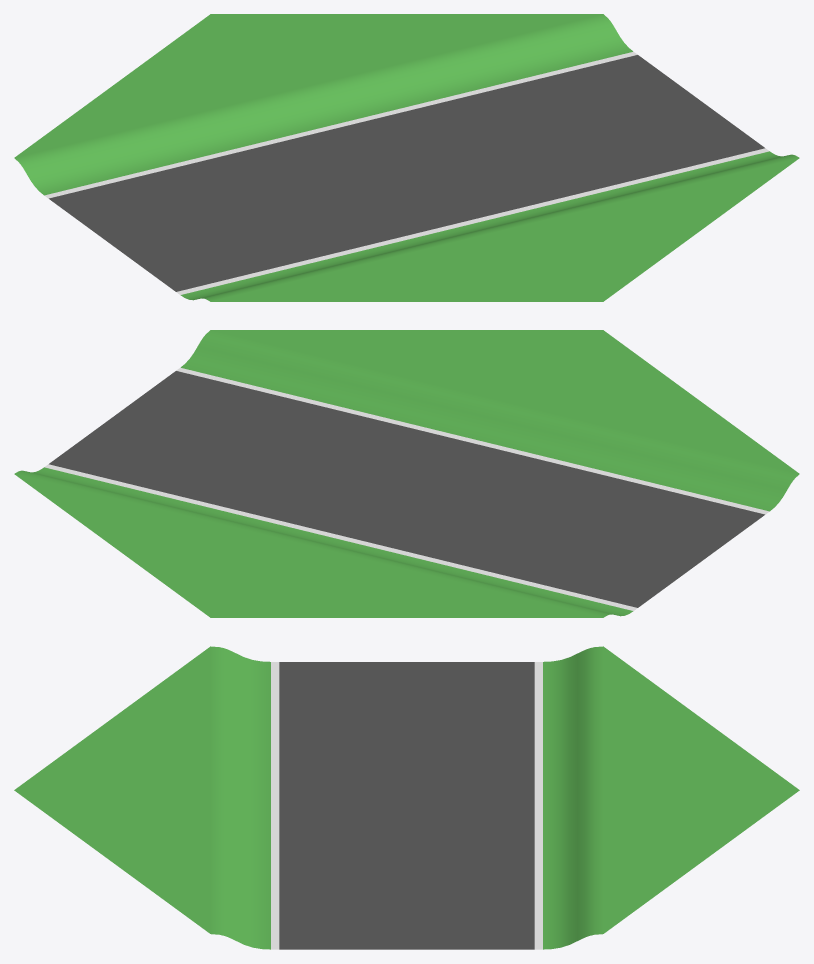
The model's file is Track_Flat_Straight.obj.
The picture shows the model from 3 angles, top to bottom: view 1: azimuth 30°, elevation 25°; view 2: azimuth 150°, elevation 25°; view 3: azimuth 270°, elevation 25°; orthographic projection.
Parts seen in each view (by area): view 1: object1.004; view 2: object1.004; view 3: object1.004.
Boxes of the visible parts, x1,y1,x2,y2 form: object1.004: [14, 14, 799, 301]; object1.004: [14, 330, 799, 617]; object1.004: [14, 646, 799, 949].
Bounding box in the file's own units: 1 × 0.025 × 1.15.
